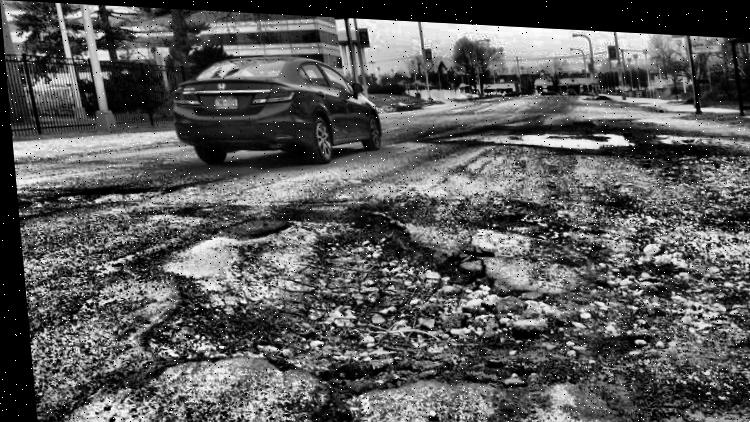pothole: (301, 208, 507, 395), (510, 118, 635, 149)
